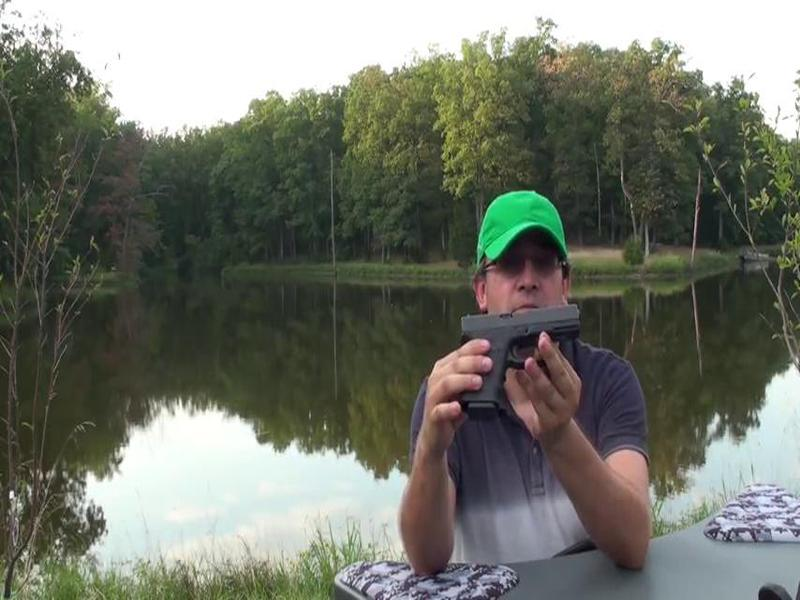Pistola: (438, 296, 597, 421)
